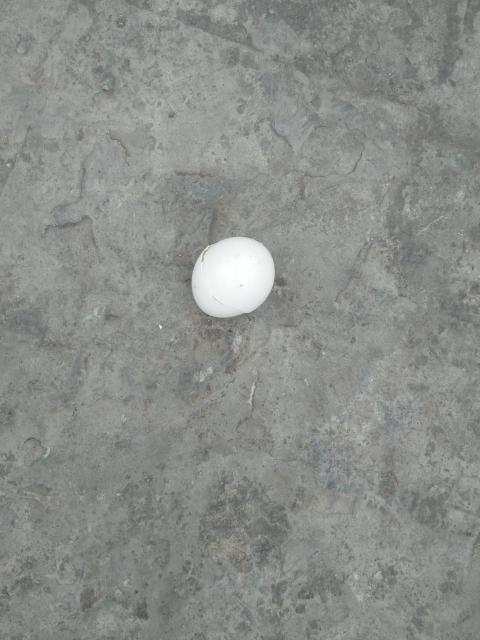Roto: (191, 235, 275, 318)
